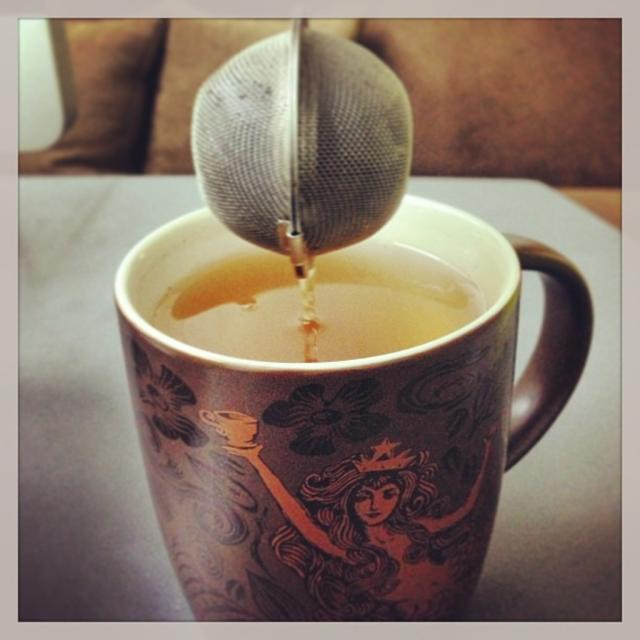Tea: (151, 233, 485, 359)
